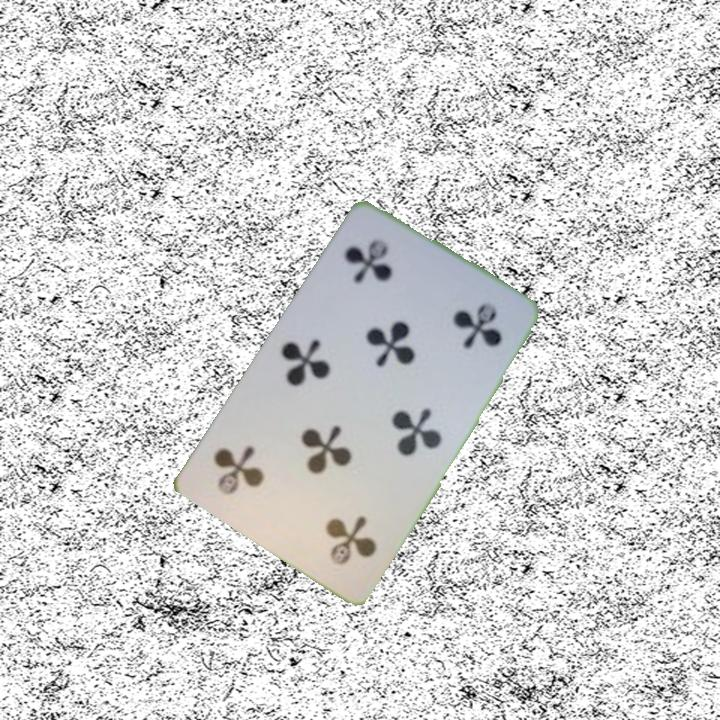c_8.png: (322, 214, 450, 338), (272, 463, 400, 587)
